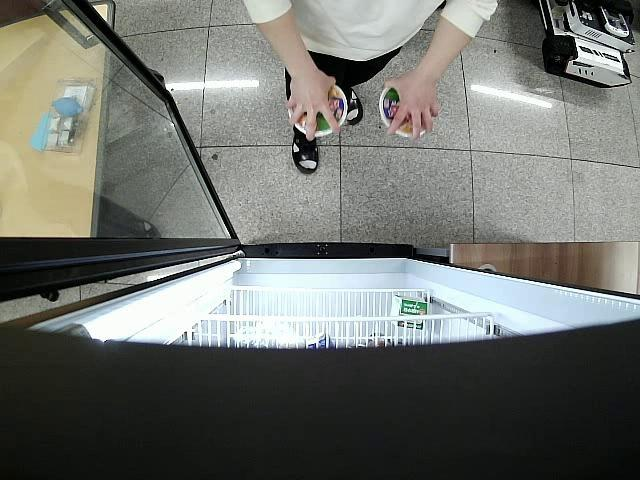09_yukGaeJang: (288, 84, 347, 136), (378, 86, 426, 139)
